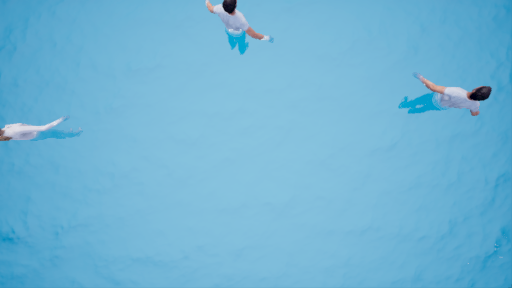person: (399, 72, 497, 121), (196, 1, 278, 55), (1, 115, 83, 144)
